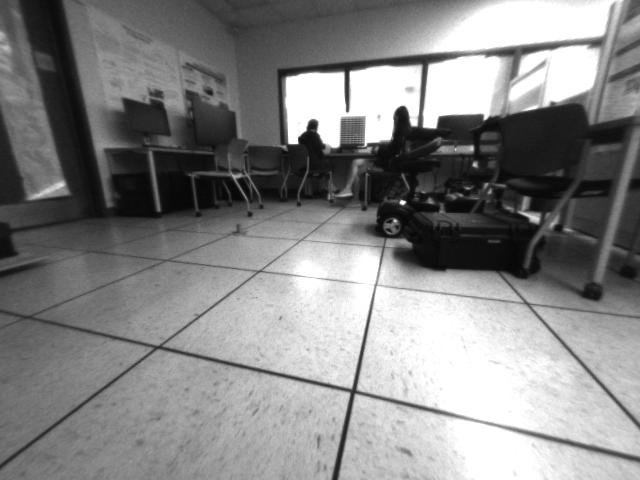x: (228, 222, 245, 234)
